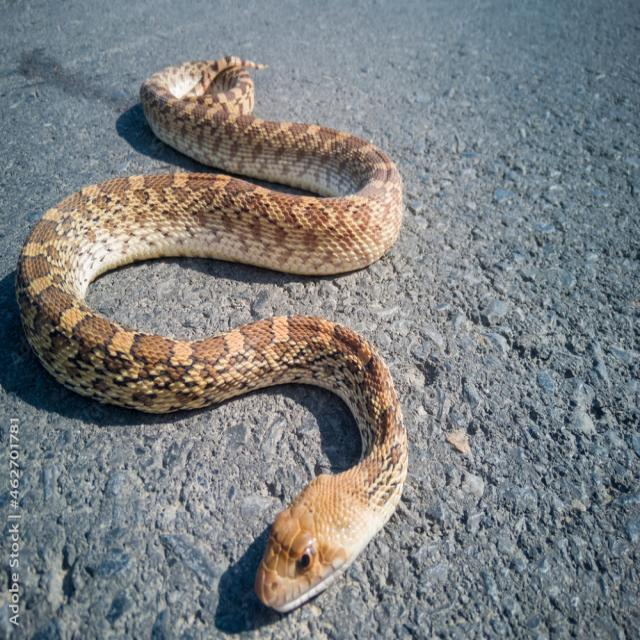Snake: (14, 45, 423, 632)
